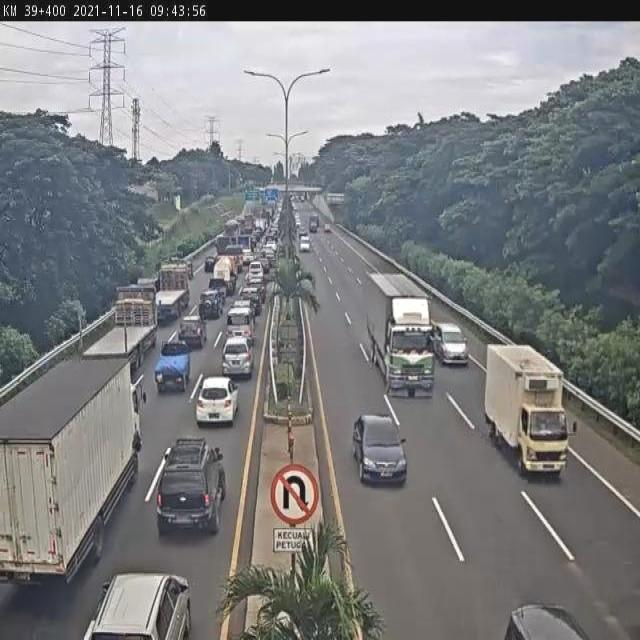Car: (155, 438, 226, 534), (350, 413, 408, 488), (502, 603, 600, 640), (195, 376, 240, 428), (154, 340, 192, 392), (221, 337, 254, 380), (228, 300, 254, 343), (178, 315, 207, 350), (199, 287, 227, 320), (204, 255, 217, 273), (324, 223, 331, 233)
Truck: (0, 342, 144, 592), (486, 343, 572, 480), (365, 272, 435, 399), (153, 261, 192, 322), (115, 281, 158, 329), (208, 256, 236, 294), (309, 215, 319, 232)
